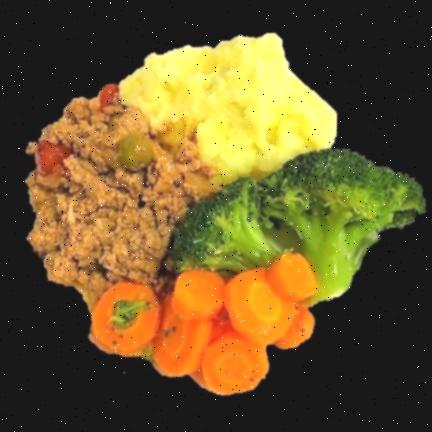broccoli: (169, 148, 425, 304)
carrot: (92, 252, 317, 394)
meat: (27, 85, 219, 308)
potato: (120, 34, 337, 183)
